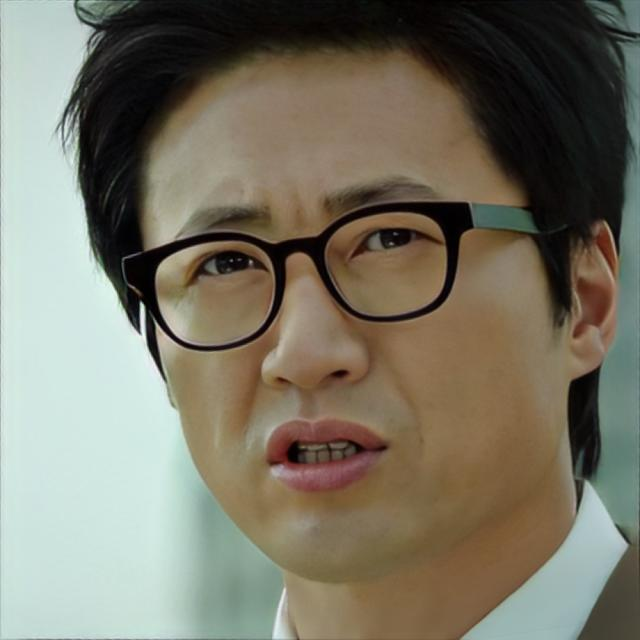disgust: (144, 41, 568, 584)
